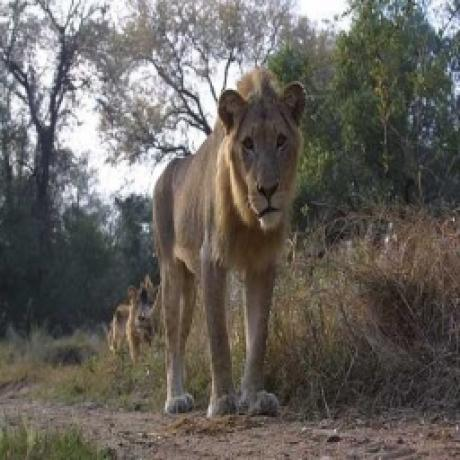Lion: (141, 69, 315, 422)
